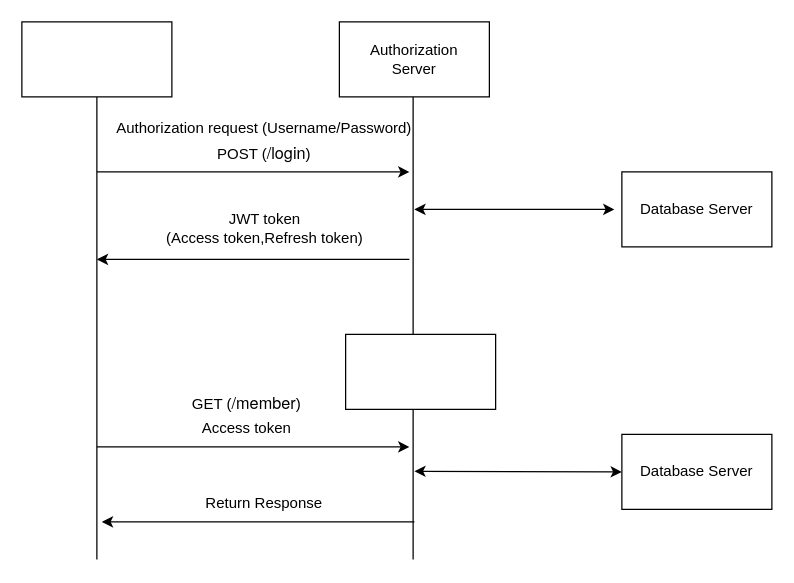
The diagram is 794 pixels wide and 583 high, and some of its shapes have lost their labels. The centre of each missing label's shape, as x and y in pixels:
"Client (Browser)" goes at point 96,59.
"Resource Service" goes at point 420,371.
